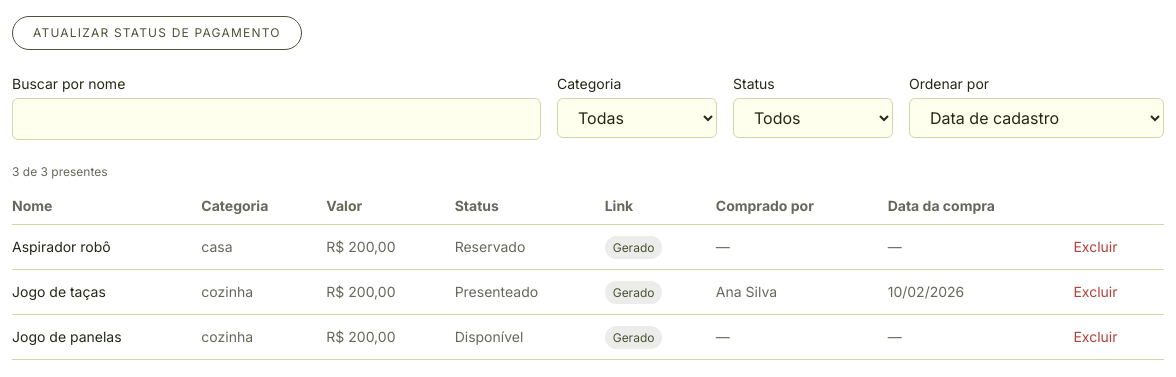
Test: GiftsTable › filters by status
This screenshot has width=1176, height=377.
Select "Presenteado" in the dropdown labelled "Status": point(813, 118) [733,98,893,138]
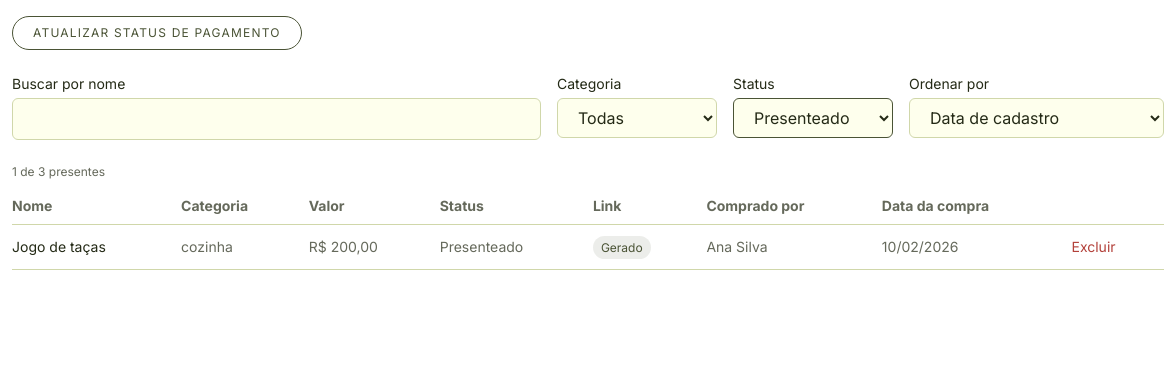
Expected: the link "Jogo de taças" is shown, [12,238,106,255]
Expected: the link "Jogo de panelas" is gone
